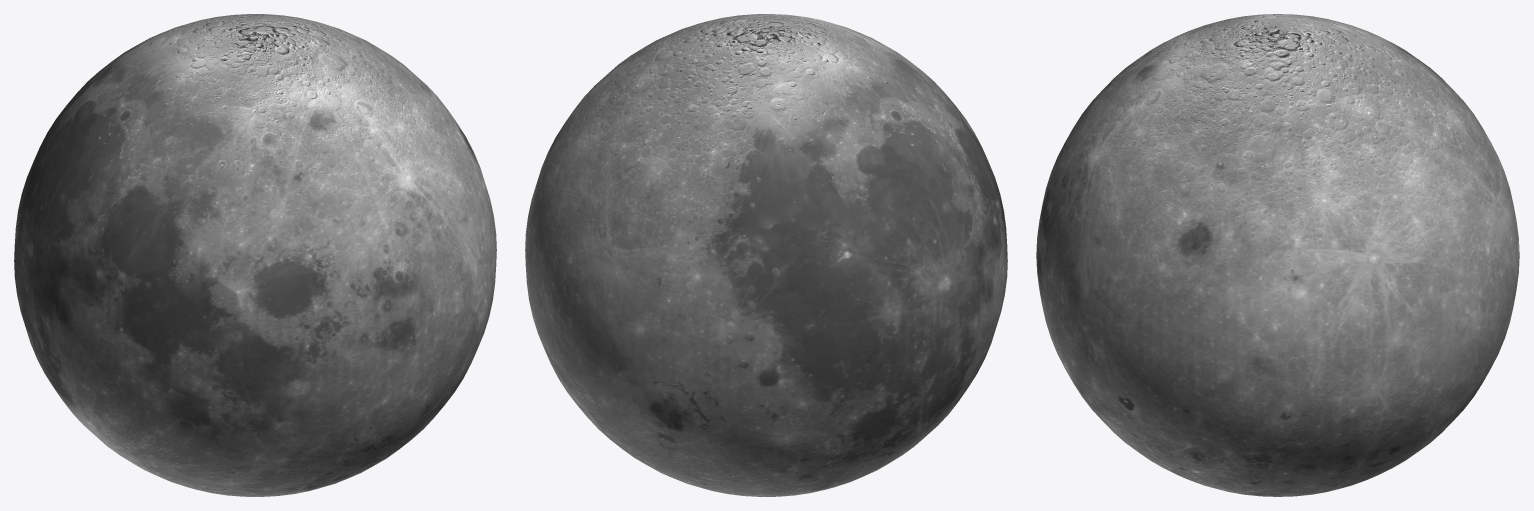
The model's file is AdobeStock_360352195_earth_moon.glb.
The picture shows the model from 3 angles, left to right: view 1: azimuth 30°, elevation 25°; view 2: azimuth 150°, elevation 25°; view 3: azimuth 270°, elevation 25°; orthographic projection.
Visible parts, largest first — view 1: earth_moon_GEO; view 2: earth_moon_GEO; view 3: earth_moon_GEO.
Part boxes in pixels (x1=…): earth_moon_GEO: x1=14, y1=14, x2=496, y2=496; earth_moon_GEO: x1=525, y1=14, x2=1007, y2=496; earth_moon_GEO: x1=1036, y1=14, x2=1519, y2=496.
Size of the model in its own units: 6.04 by 6.04 by 6.04.
Materials: 1 (1 with a texture image).
